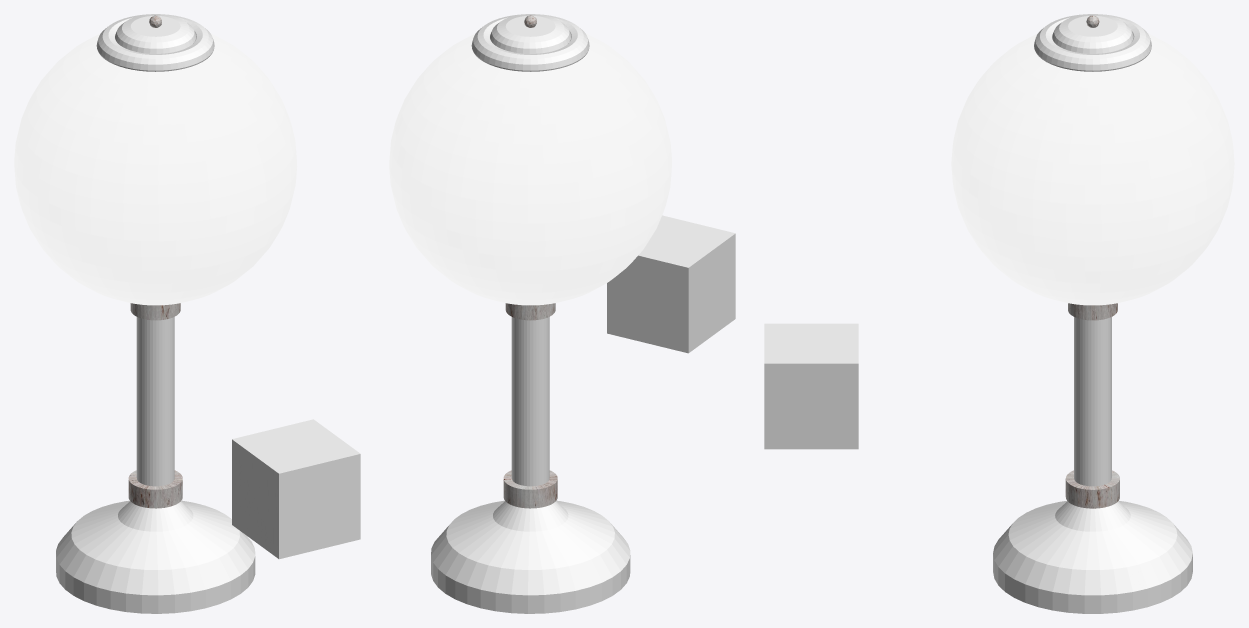
Rendered from Orrery Sun.glb.
3 renders of one model, left to right at view 1: azimuth 30°, elevation 25°; view 2: azimuth 150°, elevation 25°; view 3: azimuth 270°, elevation 25°, orthographic.
Visible parts, largest first — view 1: Orrery_Sun, TestCube; view 2: Orrery_Sun, TestCube; view 3: Orrery_Sun, TestCube.
Boxes of the visible parts, x1,y1,x2,y2 form: Orrery_Sun: [14, 14, 297, 613]; TestCube: [232, 419, 360, 559]; Orrery_Sun: [389, 14, 671, 613]; TestCube: [607, 215, 735, 353]; Orrery_Sun: [951, 14, 1234, 613]; TestCube: [764, 323, 858, 449].
Bounding box in the file's own units: 5.99 × 12.99 × 9.96.
3 materials, 1 textured.
